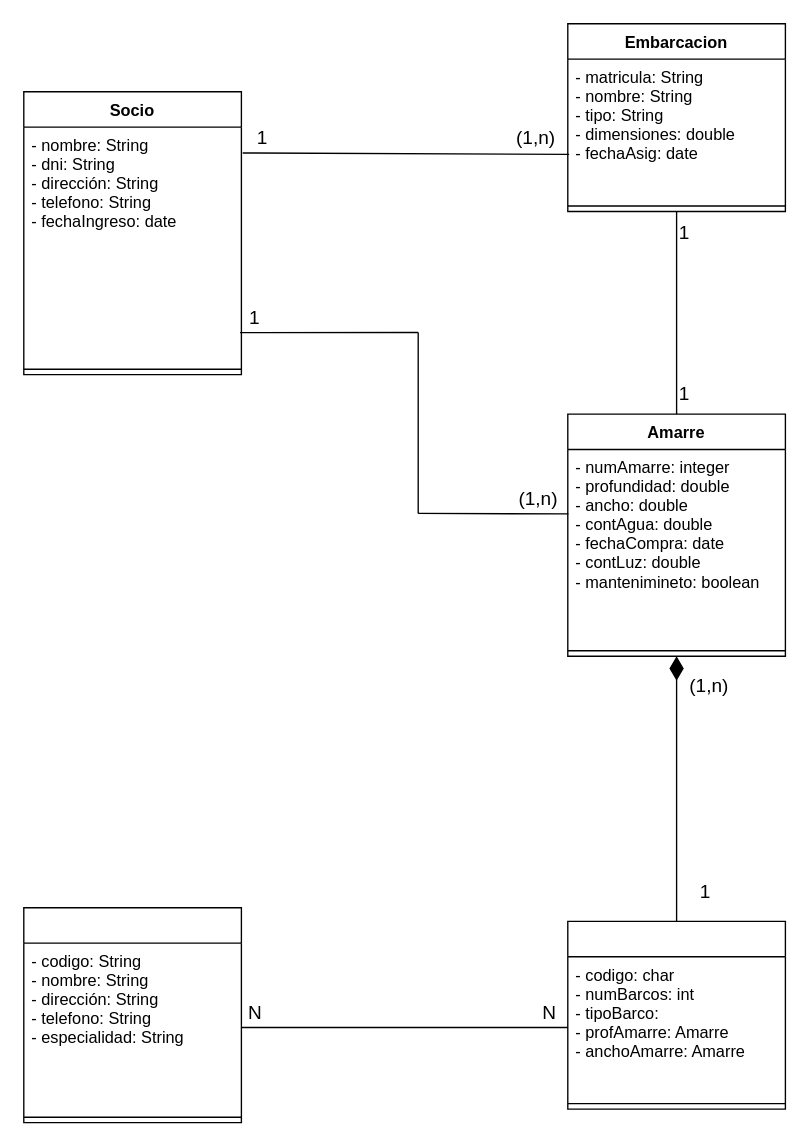
The diagram is 809 pixels wide and 1146 high, and some of its shapes have lost their labels. The shapes that lost their labels are listed below. From the top down, each one's box as (x1, y1, x2, y2) in pixels, then its label:
(22, 906, 241, 1123): Empleado
(566, 920, 785, 1109): Zona
